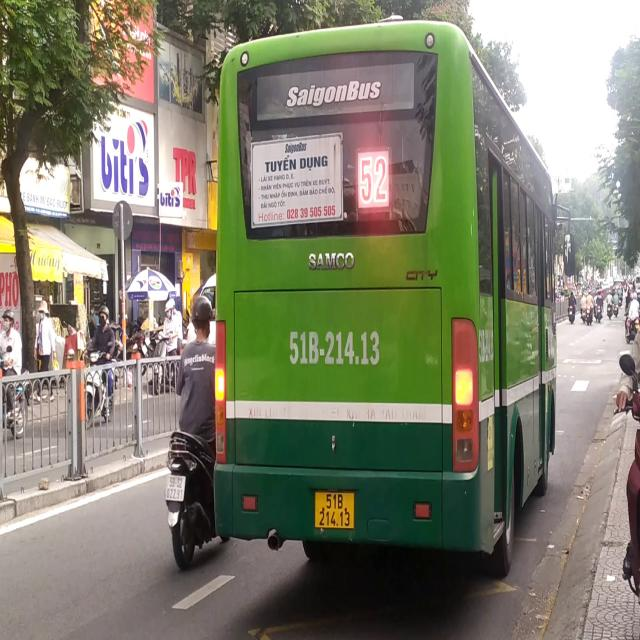bien_trang: (163, 470, 184, 504)
bien_vang: (314, 493, 355, 531)
